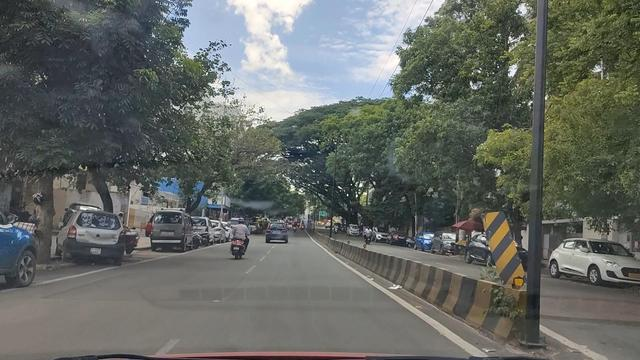LMV: (68, 209, 128, 260), (226, 214, 251, 258)
